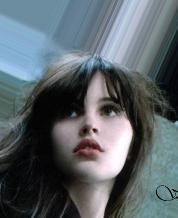face: (61, 100, 121, 159)
